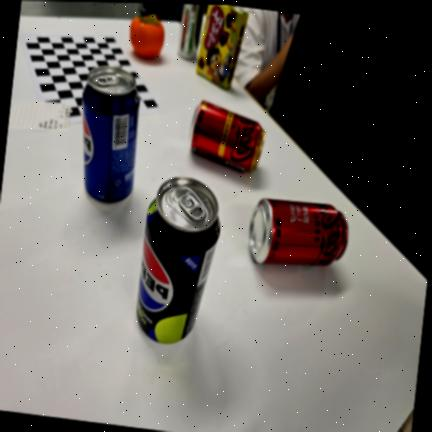can_coke_decaf: (191, 101, 265, 171)
can_coke_zero: (249, 199, 348, 266)
can_pepsi: (83, 66, 140, 202)
can_pepsi_zero: (137, 177, 221, 343)
